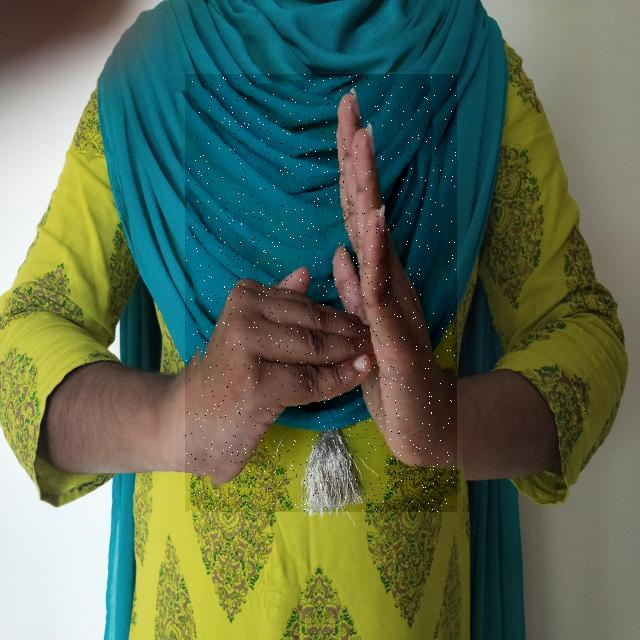Z: (185, 75, 457, 512)
